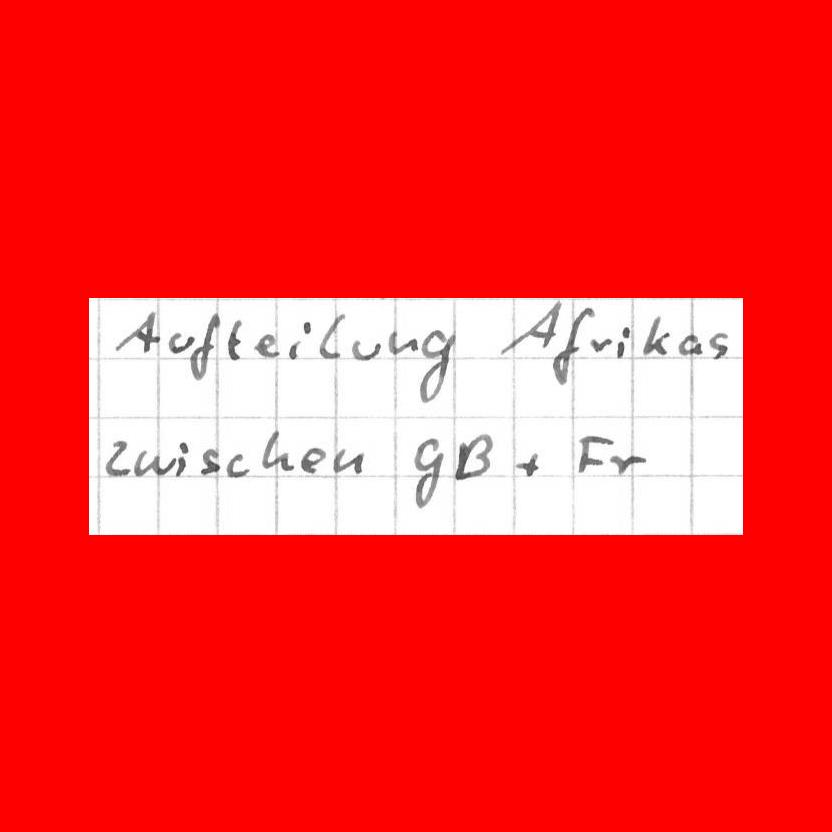Char: (497, 295, 564, 357), (551, 306, 595, 383), (416, 329, 456, 405), (410, 438, 448, 508), (189, 314, 221, 381), (452, 432, 493, 483), (114, 310, 157, 354), (574, 432, 613, 475), (260, 428, 293, 473), (643, 311, 672, 359), (318, 311, 343, 363), (103, 436, 131, 478), (134, 450, 173, 480), (288, 318, 311, 364), (332, 445, 364, 477), (607, 452, 646, 476), (387, 328, 419, 356), (226, 317, 245, 363), (298, 445, 326, 475), (514, 450, 541, 480), (254, 330, 280, 359), (351, 337, 380, 362), (224, 451, 249, 479), (197, 446, 220, 476), (168, 330, 195, 355), (678, 333, 704, 357), (708, 329, 728, 360), (616, 324, 633, 360), (175, 439, 191, 477), (589, 336, 611, 354)
